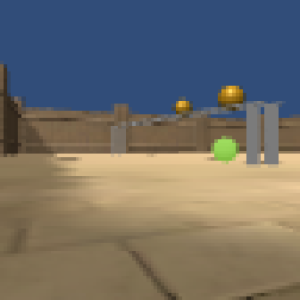goodGoal: (212, 133, 238, 163)
goodGoalMulti: (216, 83, 245, 112), (172, 97, 194, 117)
wall: (265, 102, 281, 167), (246, 103, 260, 166), (111, 124, 128, 156)
